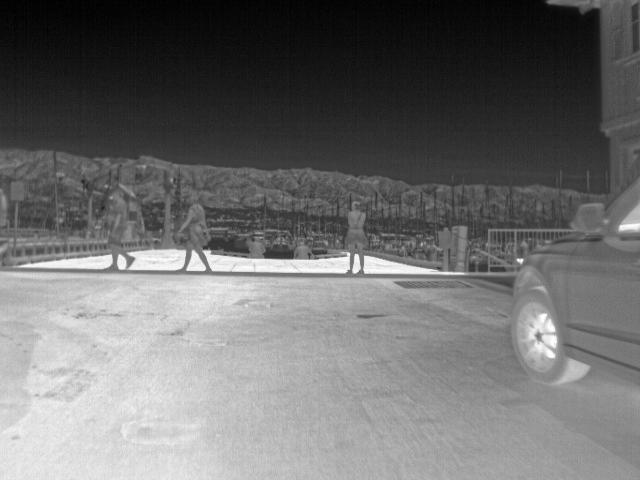car: (510, 176, 638, 391)
person: (174, 192, 216, 274), (101, 187, 140, 271), (340, 197, 368, 274), (244, 234, 268, 260), (289, 240, 315, 259)
